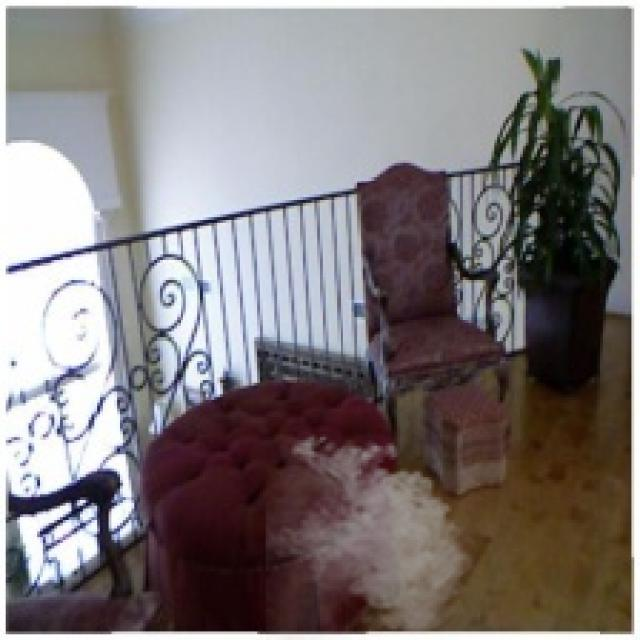smoke: (266, 429, 483, 637)
